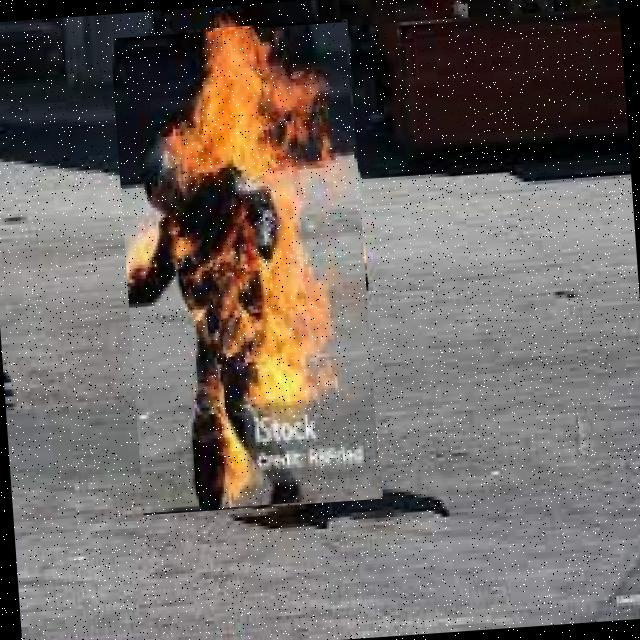fire: (110, 21, 380, 515)
